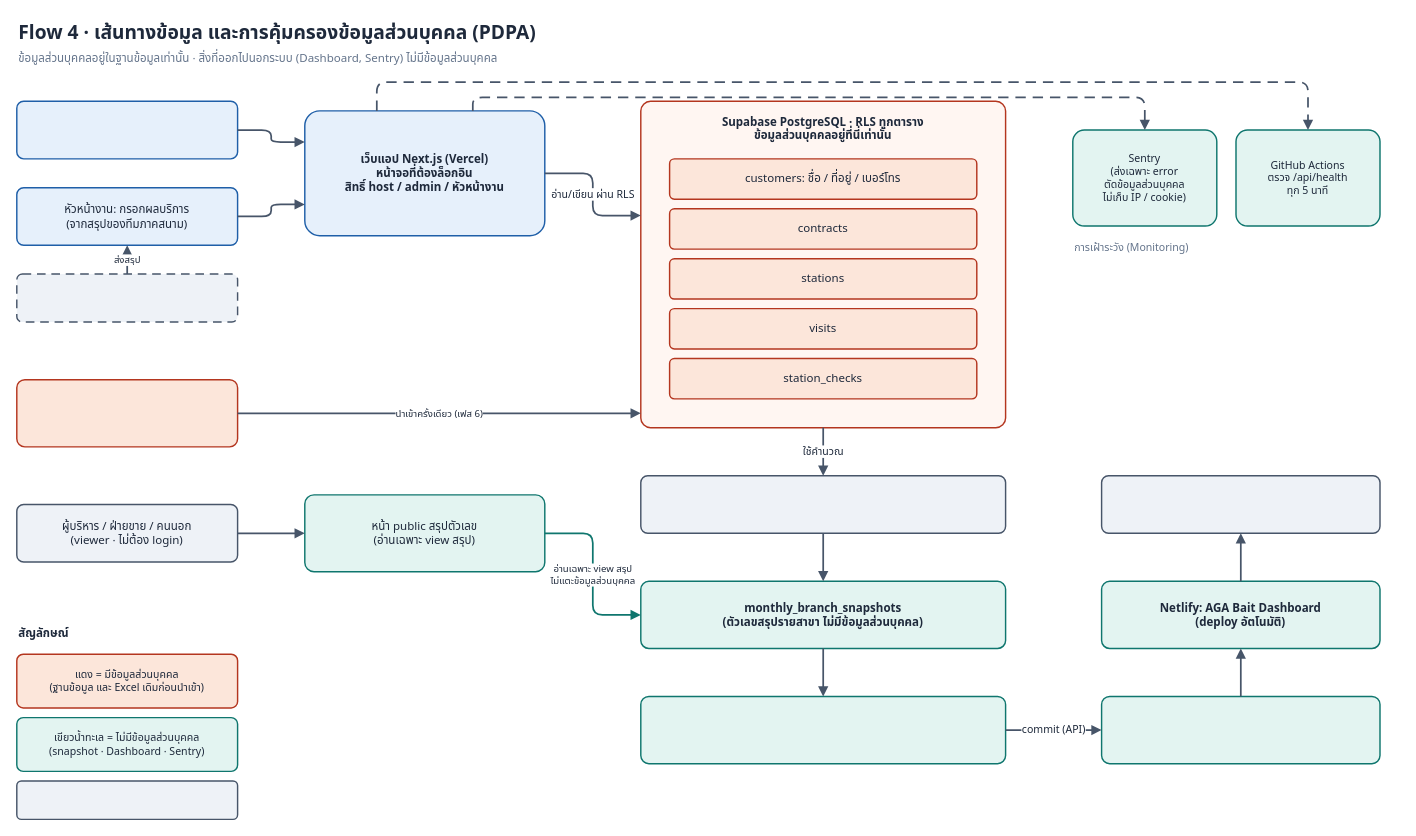
Some shapes in this 1416 by 836 pixel diagram are drawn without their labels. The centre of each missing label's shape, as x and y in pixels:
"dashboard_data.json (16 ฟิลด์/แถว · ครบ 43 สาขา · key เดือน MMM.YY)" belongs at (823,729).
"Excel ทะเบียนเดิม (มีข้อมูลลูกค้า)" belongs at (127,413).
"GitHub repo 13azukaoab/AGA-Bait-Dashboard" belongs at (1240,729).
"ทีมภาคสนาม (ไม่มีบัญชีระบบ)" belongs at (127,297).
"น้ำเงิน/เทา = หน้าจอ ผู้ใช้ ตัวกลาง" belongs at (127,800).
"ปิดเดือน / Auto Sync (Vercel Cron 06:00 น.) คำนวณตัวเลขรวม" belongs at (823,504).
"ผู้บริหารดู Dashboard" belongs at (1240,504).
"แอดมิน: เปิดงาน / สัญญา / สถานี" belongs at (127,129).
